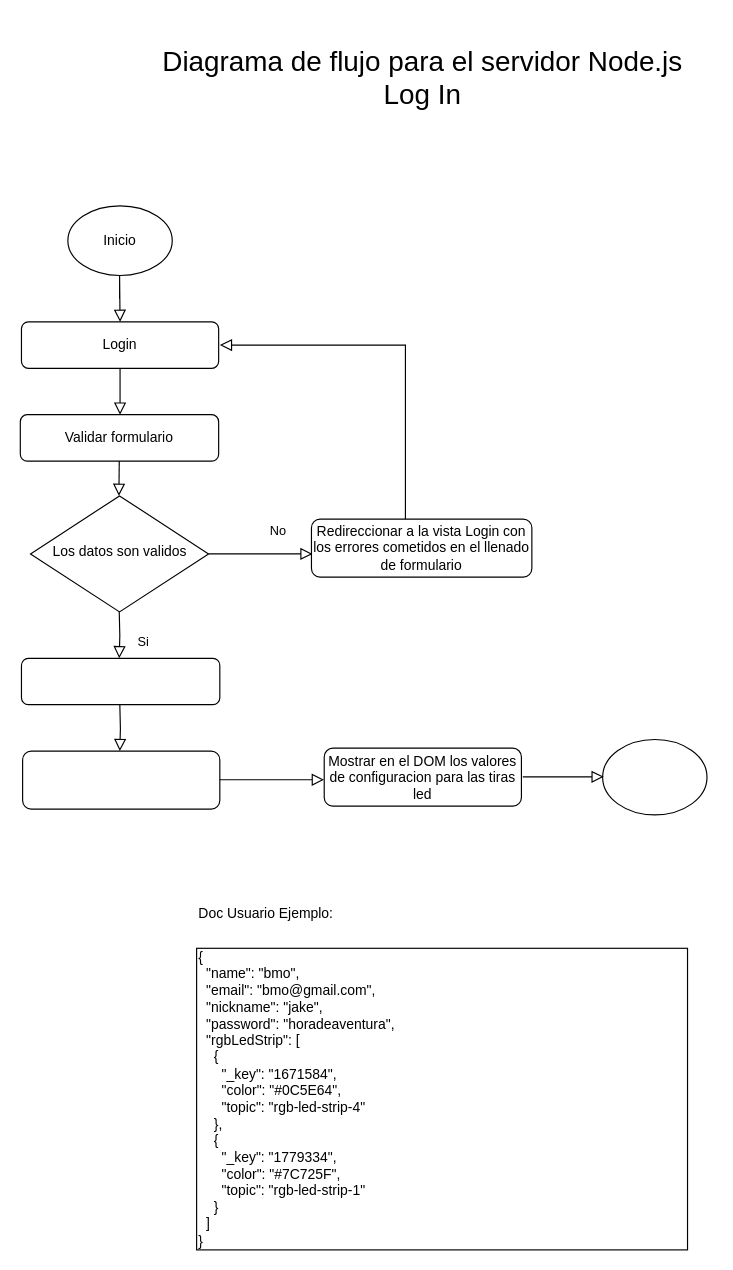
Some shapes in this 733 by 1270 pixel diagram are drawn without their labels. The shapes that lost their labels are listed below. From the top down, each one's box as (x1, y1, x2, y2) in pixels, then its label:
(20, 657, 220, 705): Obtener los datos del usaurio
(21, 750, 220, 809): Redireccionar a la vista principal
(601, 738, 707, 815): fin
